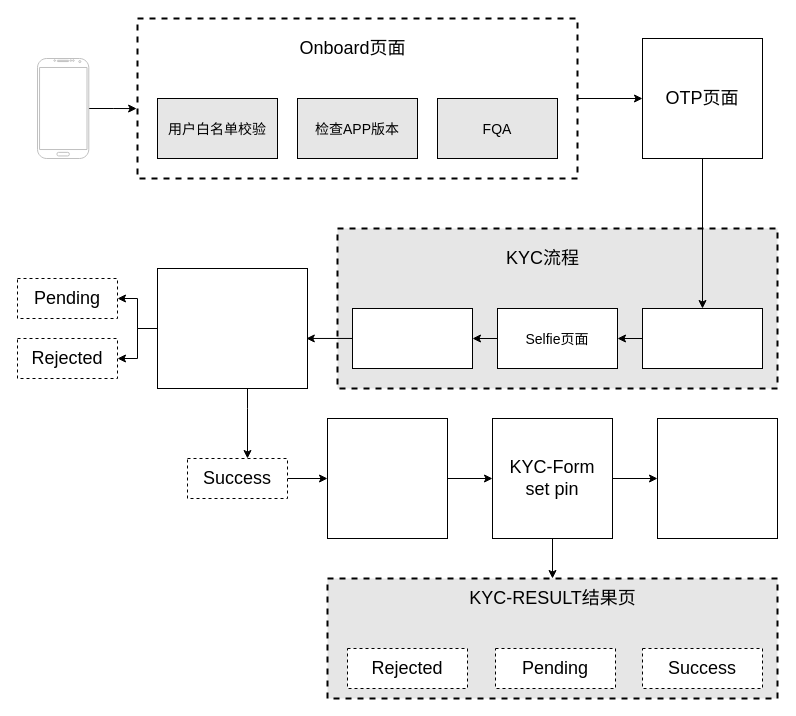
Some shapes in this 796 by 716 pixel diagram are drawn without their labels. The shapes that lost their labels are listed below. From the top down, each one's centre as x and y in pixels, then its label:
At point (232, 328): "新增等待页".
At point (412, 338): "KYC-Form页面".
At point (702, 338): "OCR页面".
At point (387, 478): "FEC OTP".
At point (717, 478): "会员Set Pin页".
